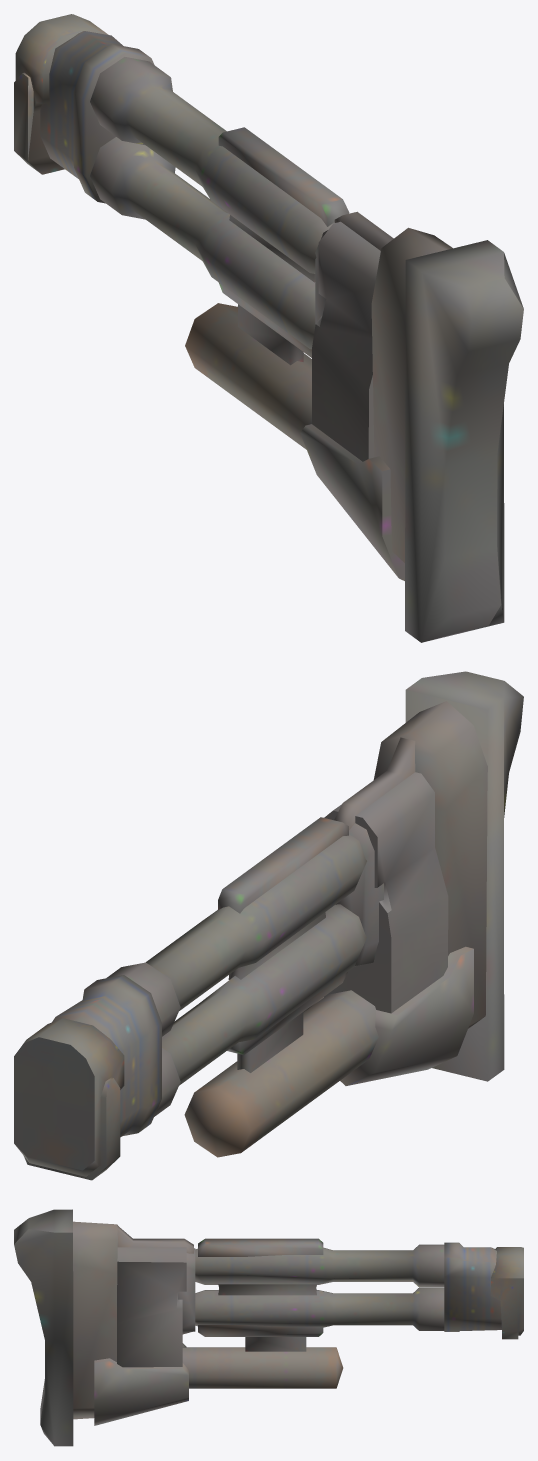
File: stock3.obj
3 renders of one model, top to bottom at view 1: azimuth 30°, elevation 25°; view 2: azimuth 150°, elevation 25°; view 3: azimuth 270°, elevation 25°, orthographic. The views are drawn at different scales.
Parts seen in each view (by area): view 1: stock3; view 2: stock3; view 3: stock3.
Boxes of the visible parts, x1,y1,x2,y2 form: stock3: (14,14,523,642); stock3: (14,671,523,1180); stock3: (14,1209,523,1446).
Bounding box in the file's own units: 4.27 × 16.36 × 35.37.
